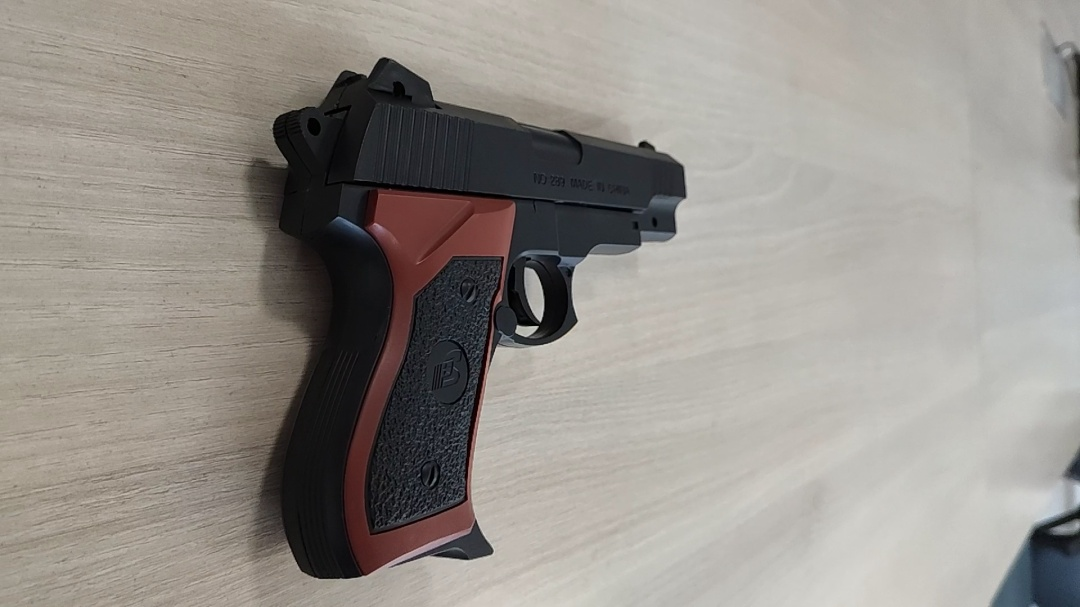gun: (256, 174, 354, 267)
